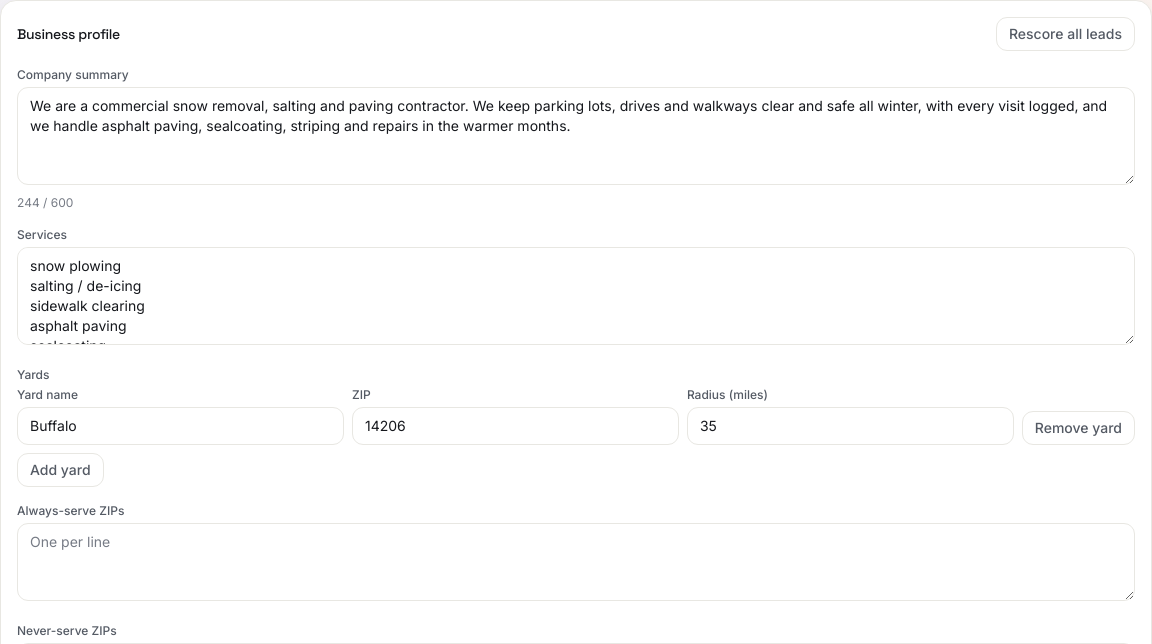
it: BusinessProfileSection › rescores in batches until nothing remains
This screenshot has width=1152, height=644.
What coordinates should you click on to do the following:
click the button "Rescore all leads"
I would click on:
 (1065, 34)
Its box is [996,17,1135,51].
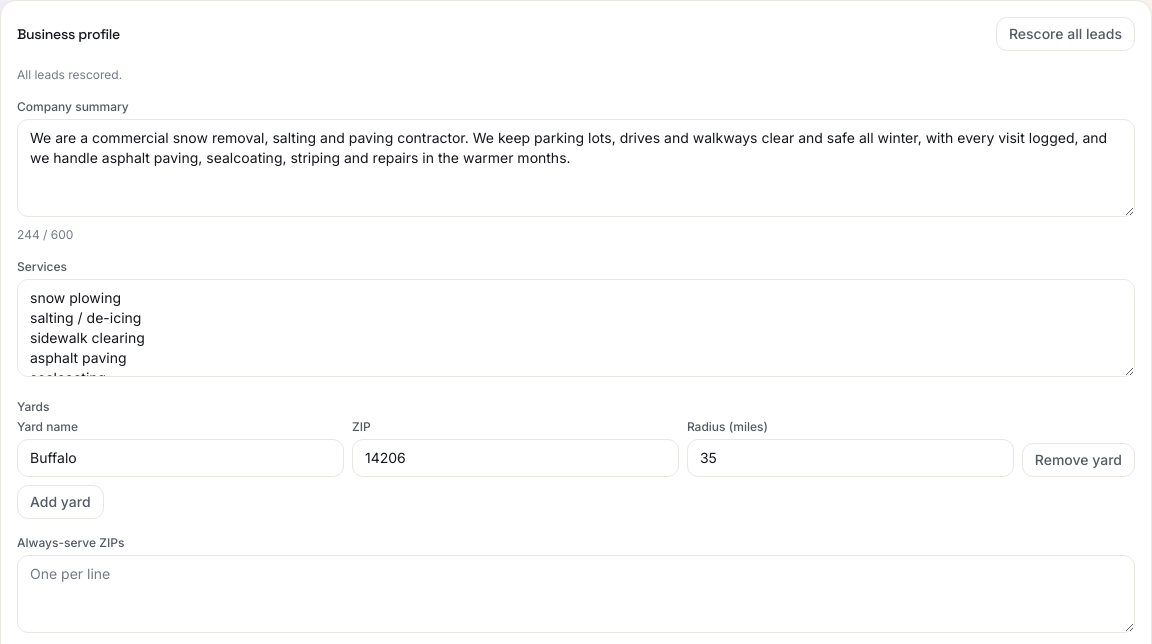
Expected: the text "All leads rescored." is shown, [17,67,122,82]
